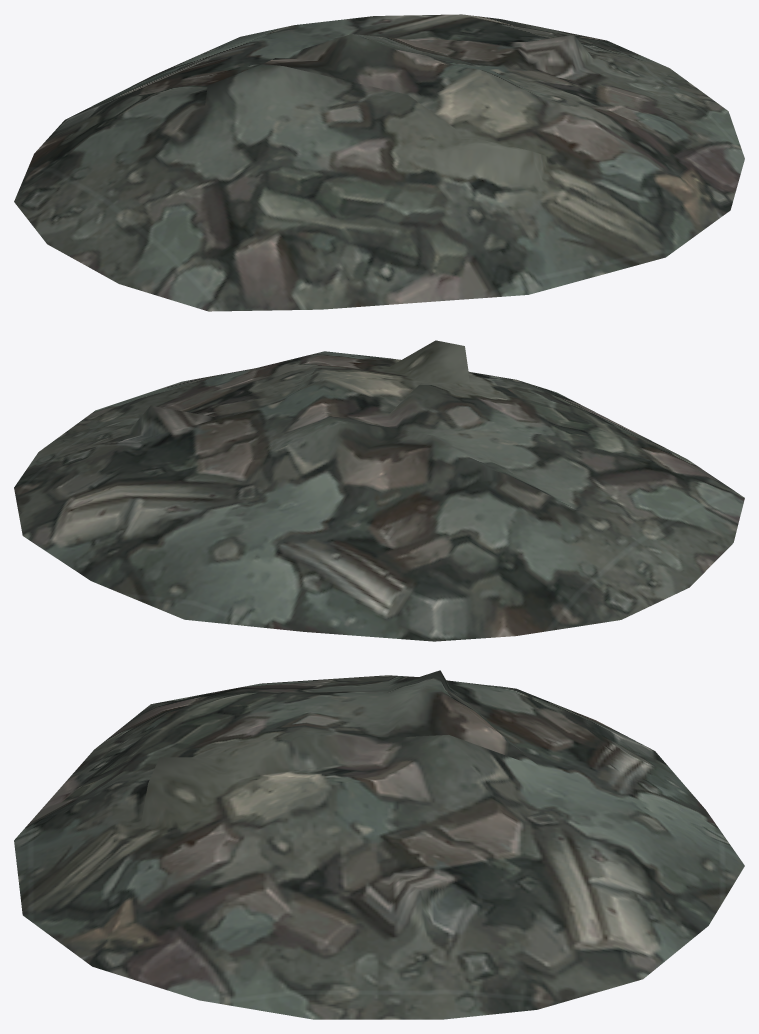
Rendered from break_ground_02.fbx.
The picture shows the model from 3 angles, top to bottom: view 1: azimuth 30°, elevation 25°; view 2: azimuth 150°, elevation 25°; view 3: azimuth 270°, elevation 25°; orthographic projection. The views are drawn at different scales.
Visible parts, largest first — view 1: break_ground_02; view 2: break_ground_02; view 3: break_ground_02.
Boxes of the visible parts, bbox=[...] form: break_ground_02: bbox=[14, 14, 744, 311]; break_ground_02: bbox=[14, 340, 744, 641]; break_ground_02: bbox=[14, 670, 744, 1019].
Bounding box in the file's own units: 920 × 148 × 829.
Materials: 1 (1 with a texture image).
